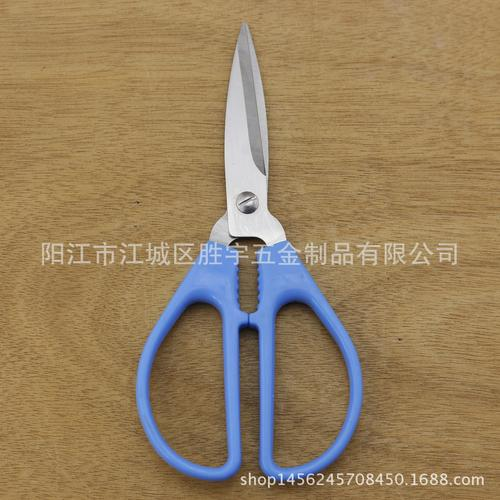scissor: (135, 21, 364, 484)
